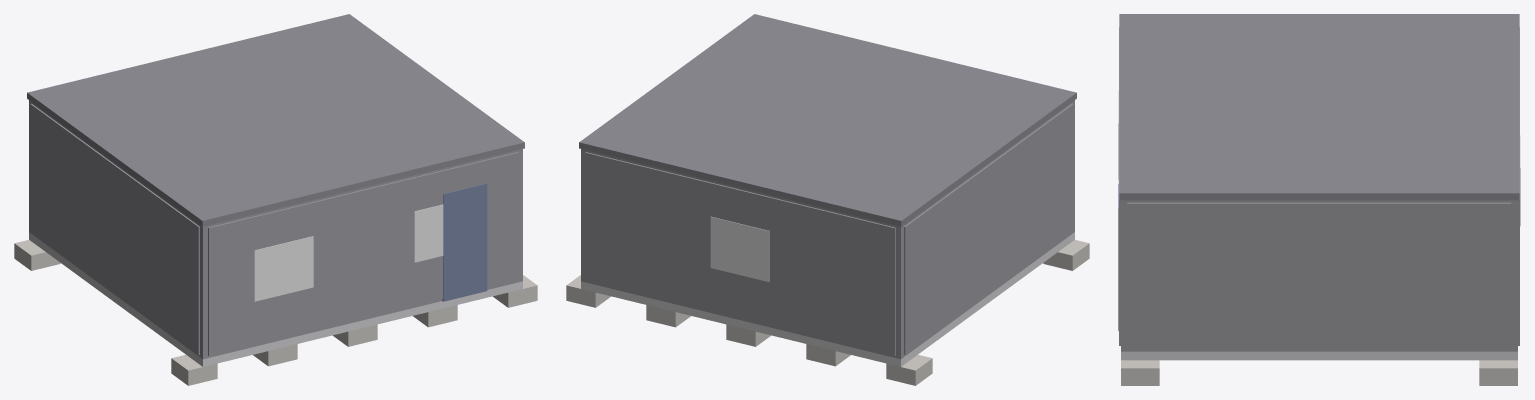
File: Studio-20-Base-AncientWallGrey-LOD2.glb
3 views of the same model, side by side, from view 1: azimuth 30°, elevation 25°; view 2: azimuth 150°, elevation 25°; view 3: azimuth 270°, elevation 25° (orthographic). The views are drawn at different scales.
Parts seen in each view (by area): view 1: RoofMain, ExteriorPanelsStandard, EntryDoor, WindowsStandard, FoundationBlocks, ExteriorShell, BaseFrame; view 2: ExteriorPanelsStandard, RoofMain, FoundationBlocks, BaseFrame, ExteriorShell, WindowsStandard; view 3: RoofMain, ExteriorPanelsStandard, ExteriorShell, BaseFrame, FoundationBlocks.
Part boxes in pixels (x1,y1,x2,y2): RoofMain: (27, 14, 524, 226); ExteriorPanelsStandard: (30, 103, 518, 355); EntryDoor: (442, 183, 487, 301); WindowsStandard: (254, 204, 443, 301); FoundationBlocks: (14, 240, 537, 385); ExteriorShell: (29, 100, 522, 359); BaseFrame: (29, 232, 522, 366); ExteriorPanelsStandard: (585, 103, 1073, 355); RoofMain: (579, 14, 1076, 226); FoundationBlocks: (566, 240, 1089, 385); BaseFrame: (581, 232, 1074, 366); ExteriorShell: (581, 100, 1074, 359); WindowsStandard: (710, 216, 769, 281); RoofMain: (1119, 14, 1519, 200); ExteriorPanelsStandard: (1119, 27, 1519, 349); ExteriorShell: (1121, 200, 1517, 351); BaseFrame: (1121, 351, 1517, 360); FoundationBlocks: (1121, 360, 1517, 385).
Bounding box in the file's own units: 7.14 × 3.17 × 6.24.
